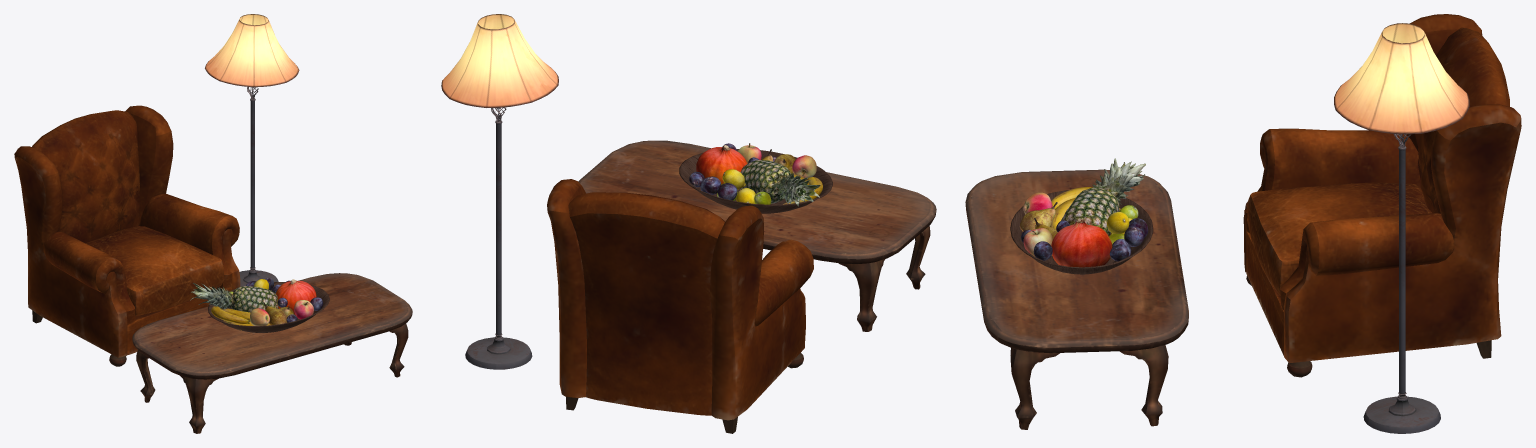
Rendered from lightmap-med.glb.
3 views of the same model, side by side, from view 1: azimuth 30°, elevation 25°; view 2: azimuth 150°, elevation 25°; view 3: azimuth 270°, elevation 25° (orthographic). The views are drawn at different scales.
Visible parts, largest first — view 1: Furniture, Fruitbowl; view 2: Furniture, Fruitbowl; view 3: Furniture, Fruitbowl.
Boxes of the visible parts, x1,y1,x2,y2 form: Furniture: (14,14,412,433); Fruitbowl: (190,278,329,332); Furniture: (441,14,936,433); Fruitbowl: (679,143,832,213); Furniture: (965,14,1521,433); Fruitbowl: (1010,158,1153,274).
Size of what is drawn, in the model's own units: 1.58 by 1.57 by 2.05.
10 materials, 10 textured.
